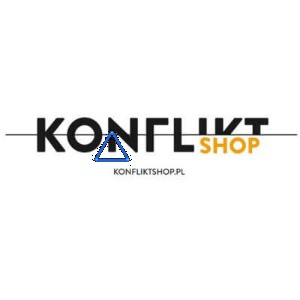triangle: (94, 130, 133, 165)
